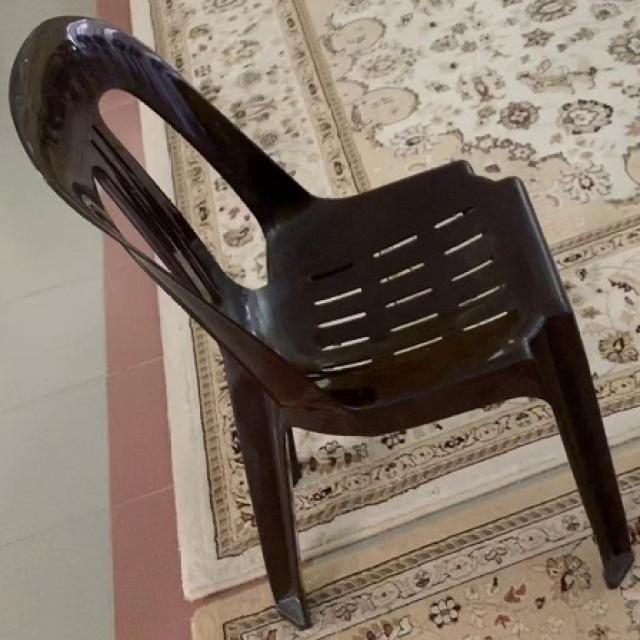chair: (7, 10, 637, 636)
